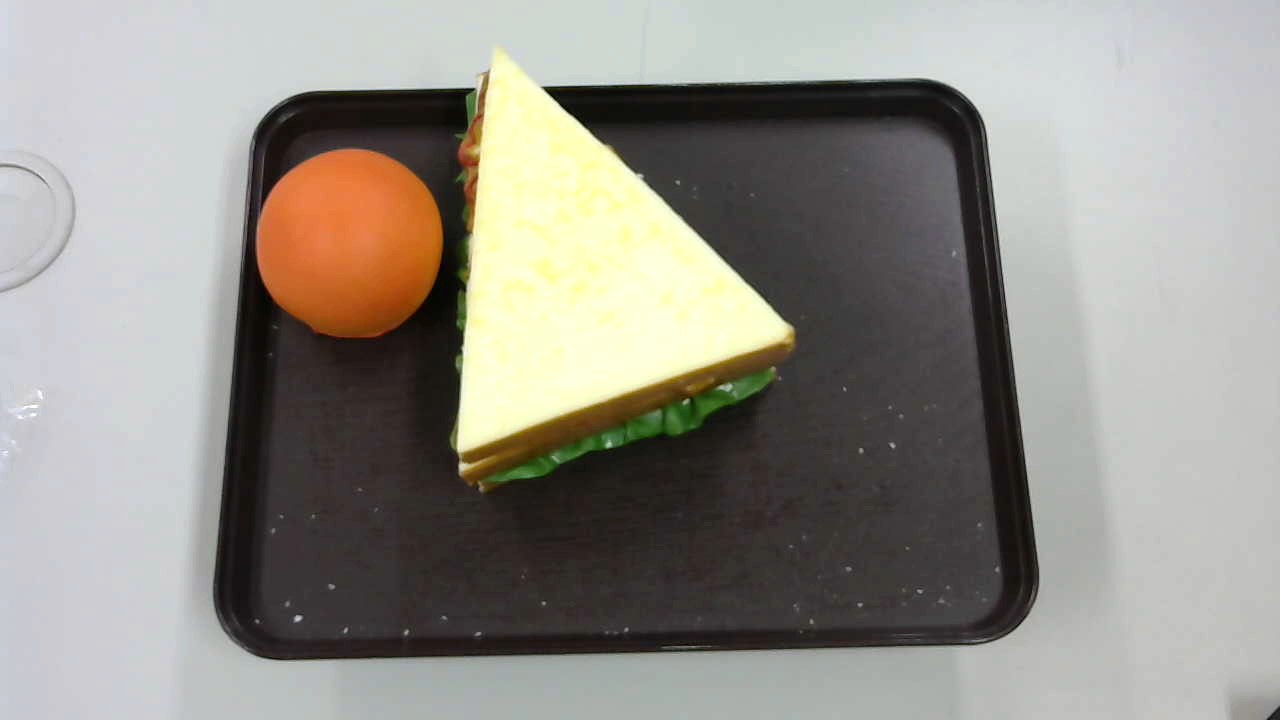bun: (256, 147, 442, 338)
sandwich: (449, 42, 794, 493)
